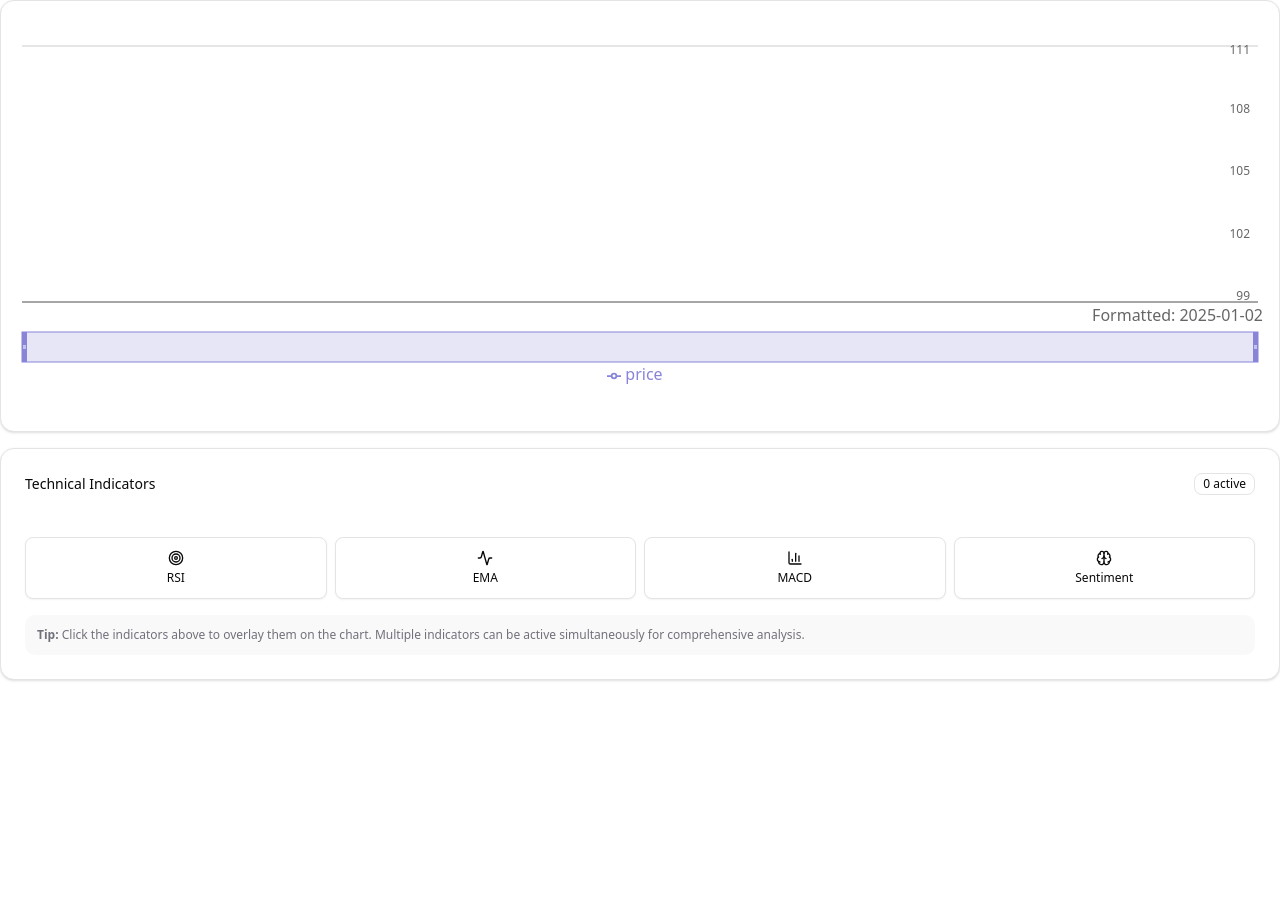
Test: ExpertGraph Component › toggles multiple indicators
What coordinates should you click on to do the following:
click the button "RSI"
I would click on:
 (176, 568)
Its box is [25,537,326,599].
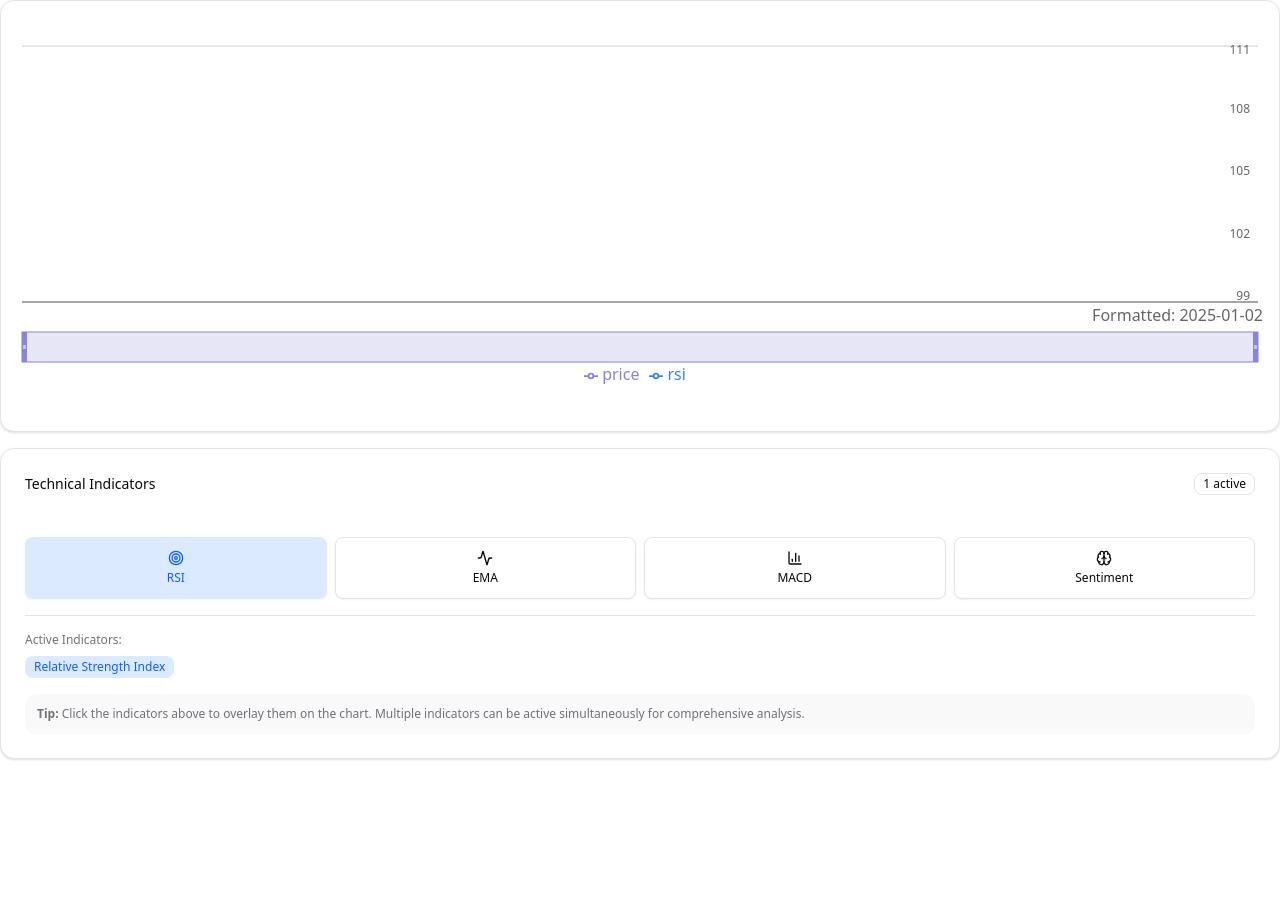
What coordinates should you click on to do the following:
click the button "EMA"
I would click on:
 (485, 568)
Its box is [334,537,636,599].
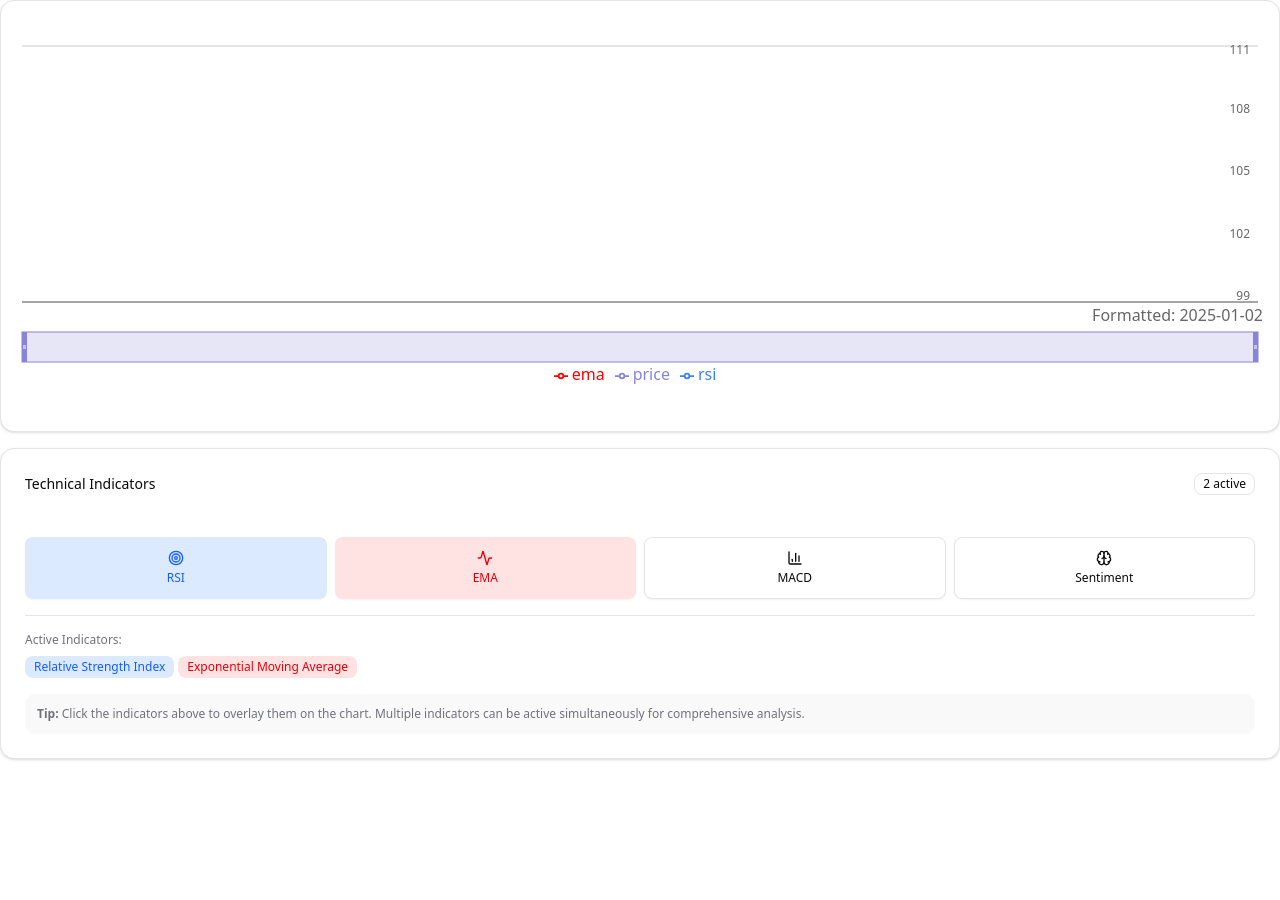
What coordinates should you click on to do the following:
click the button "MACD"
I would click on:
 (795, 568)
Its box is [644,537,946,599].
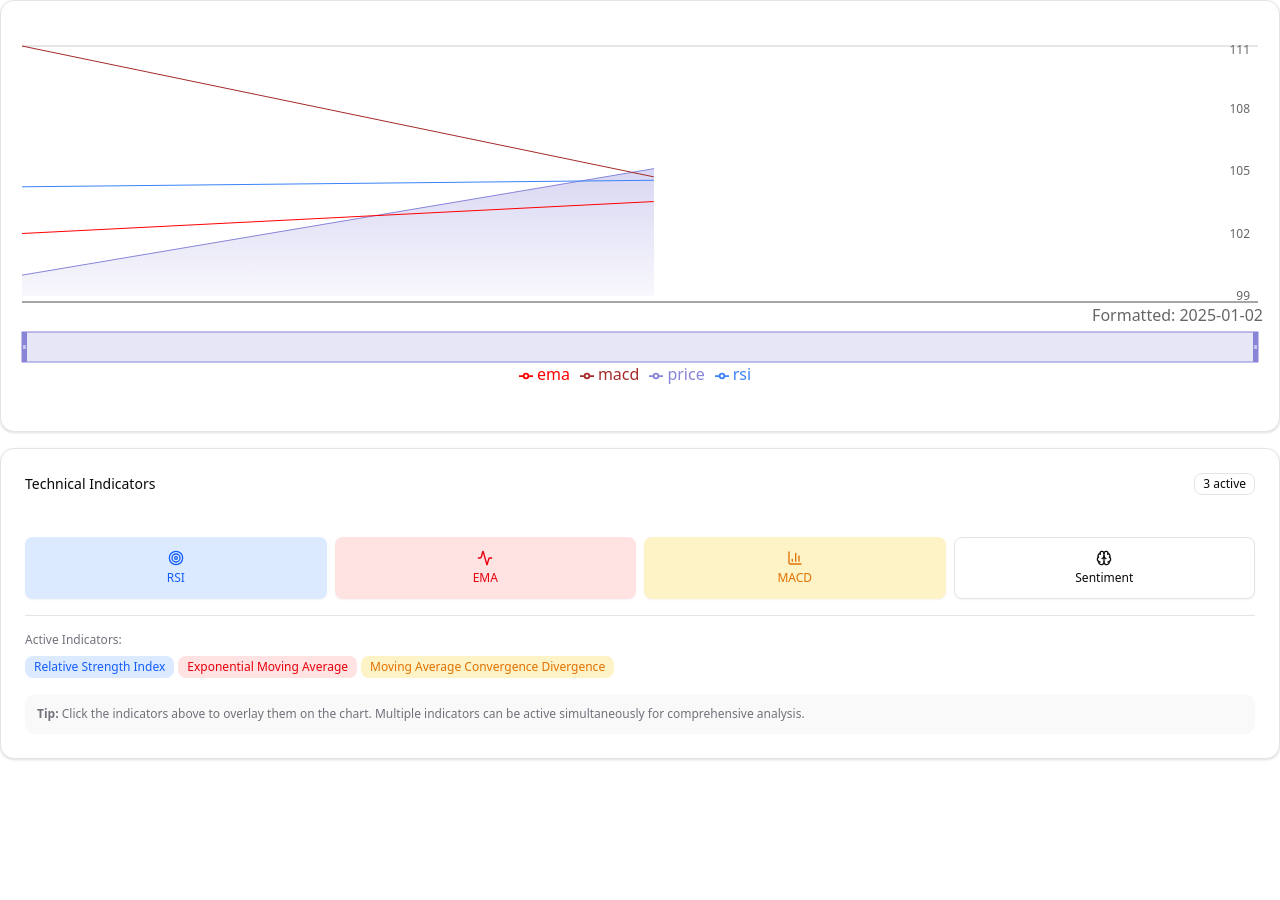
Result: the text "Relative Strength Index" is shown at [25,656,174,678]
Result: the text "Exponential Moving Average" is shown at [178,656,357,678]
Result: the text "3 active" is shown at [1194,473,1255,495]
